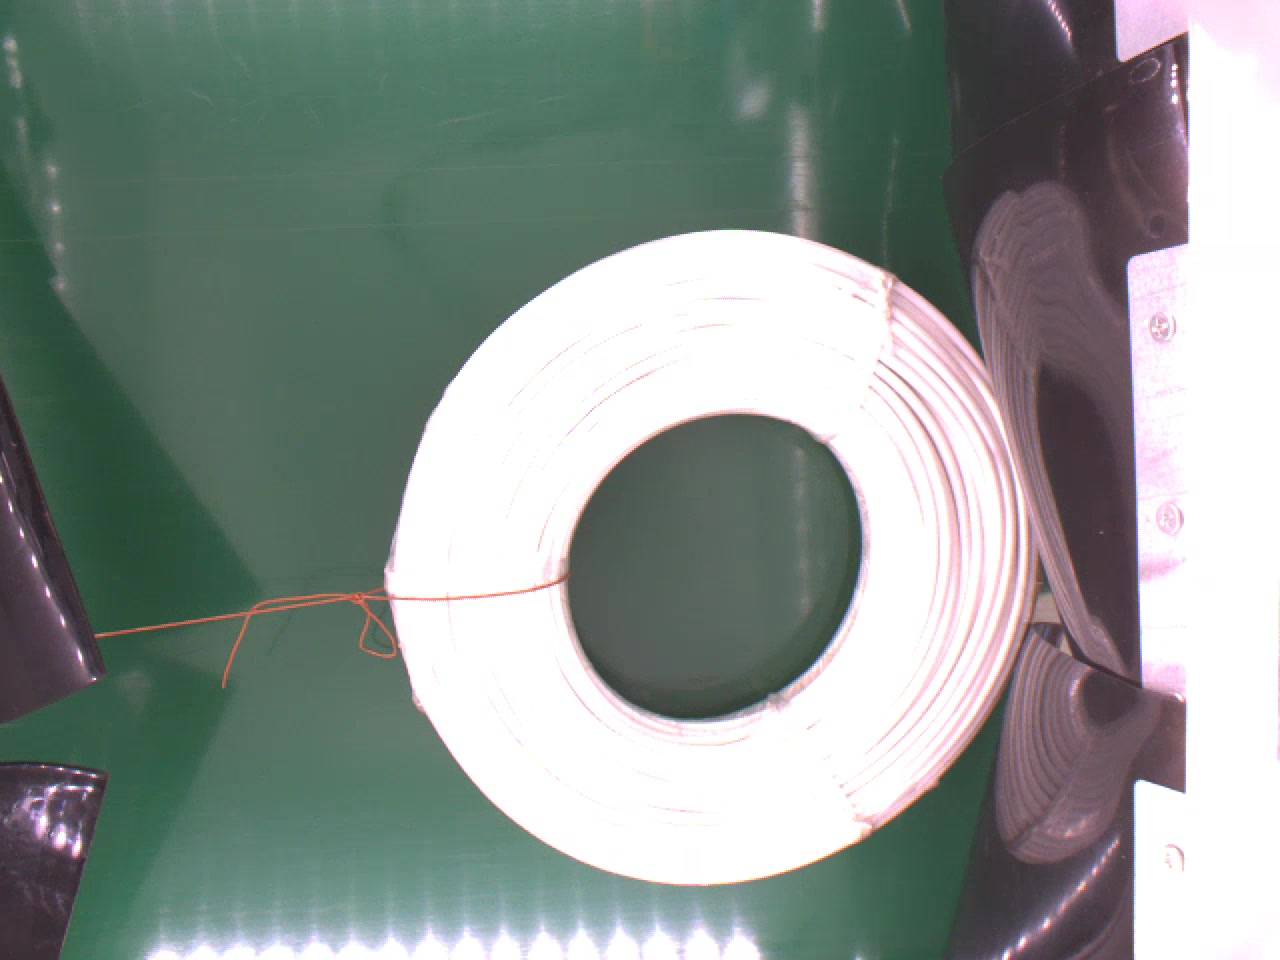white: (384, 217, 1039, 886)
